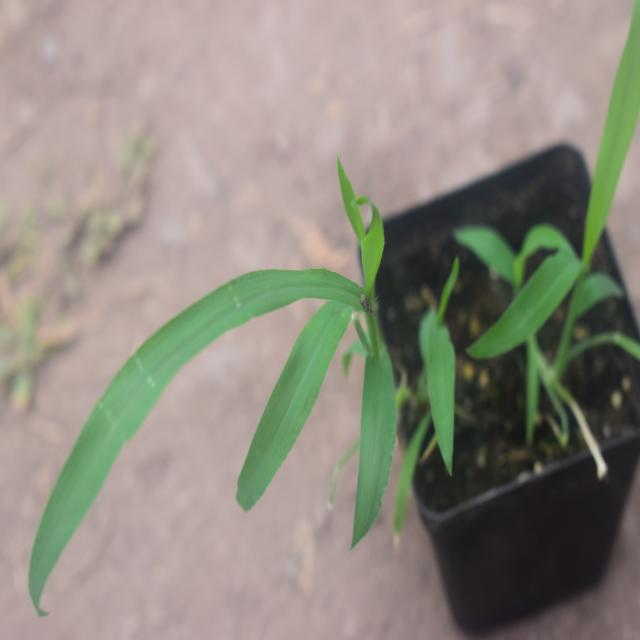crabgrass: (51, 169, 476, 527)
